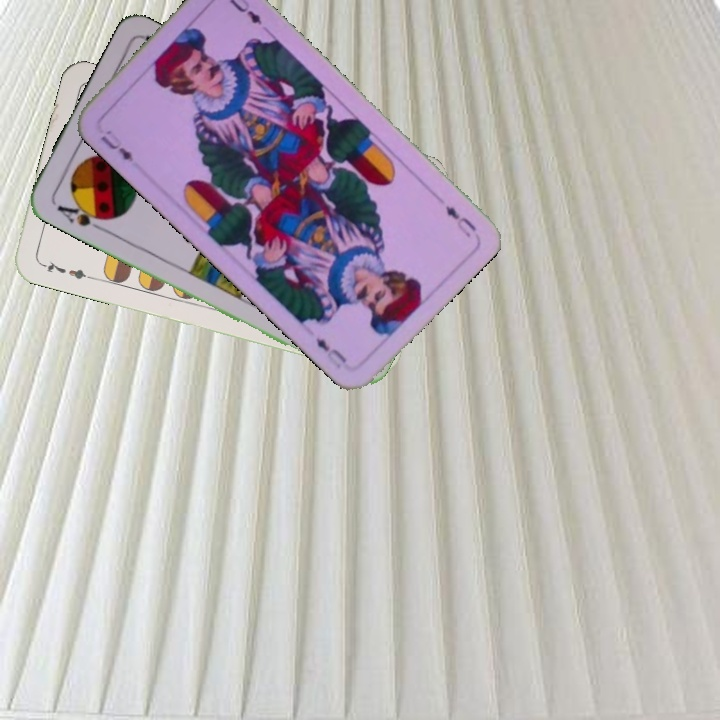E7: (37, 257, 95, 282)
EU: (441, 201, 479, 241), (96, 131, 136, 165)
SA: (53, 196, 110, 234)
